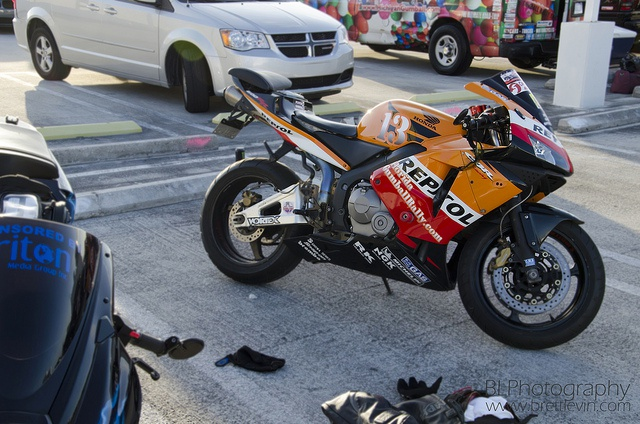non-vehicle: (199, 66, 605, 350), (0, 113, 204, 424)
